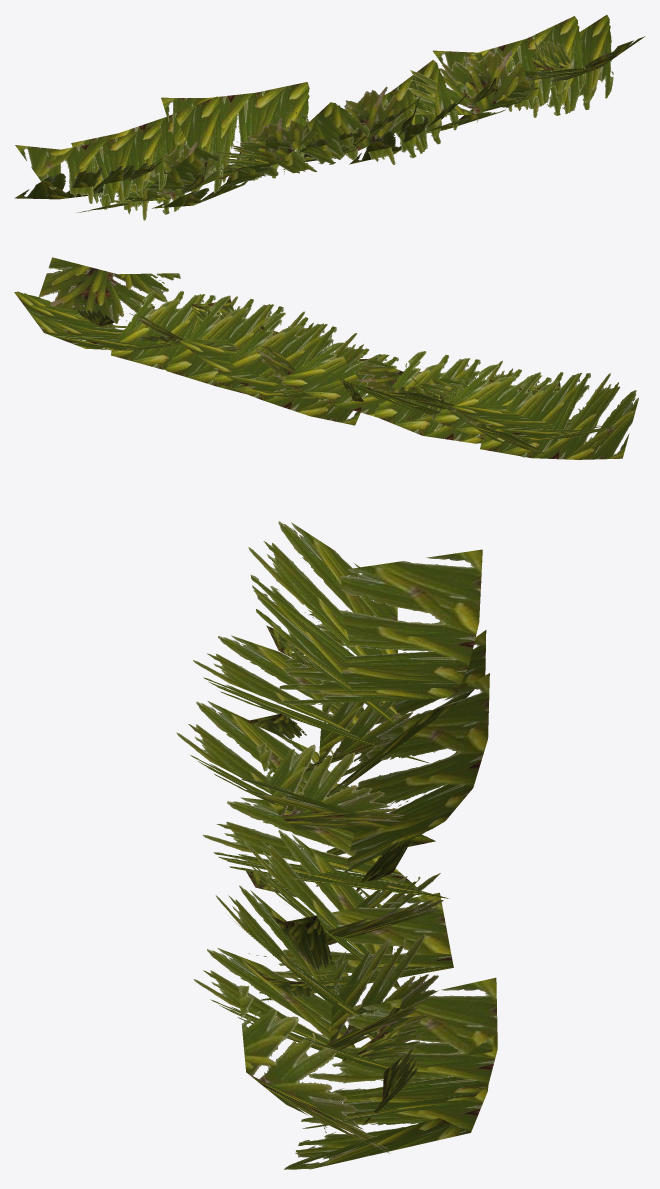
Rendered from norvedem-garland.obj.
The picture shows the model from 3 angles, top to bottom: view 1: azimuth 30°, elevation 25°; view 2: azimuth 150°, elevation 25°; view 3: azimuth 270°, elevation 25°; orthographic projection. The views are drawn at different scales.
Visible parts, largest first — view 1: norvedem-garland; view 2: norvedem-garland; view 3: norvedem-garland.
Part boxes in pixels (bbox=[...]): norvedem-garland: bbox=[14, 15, 645, 220]; norvedem-garland: bbox=[14, 257, 638, 459]; norvedem-garland: bbox=[176, 521, 497, 1169].
Bounding box in the file's own units: 3.59 × 0.5393 × 0.8727.
1 material, 1 textured.
